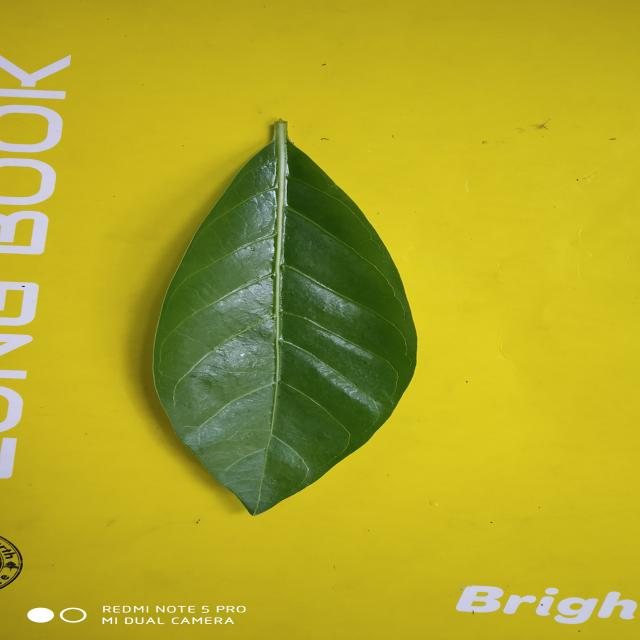nooni: (153, 121, 416, 515)
